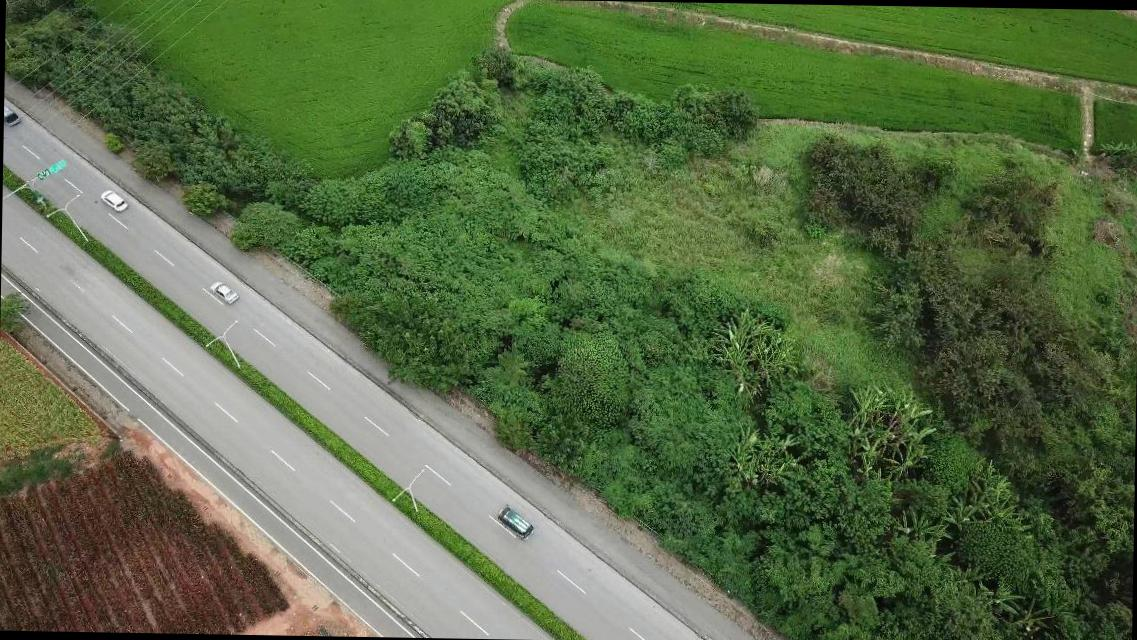vehicle: (496, 502, 533, 538), (210, 280, 240, 304), (99, 187, 127, 210), (4, 104, 20, 126)
